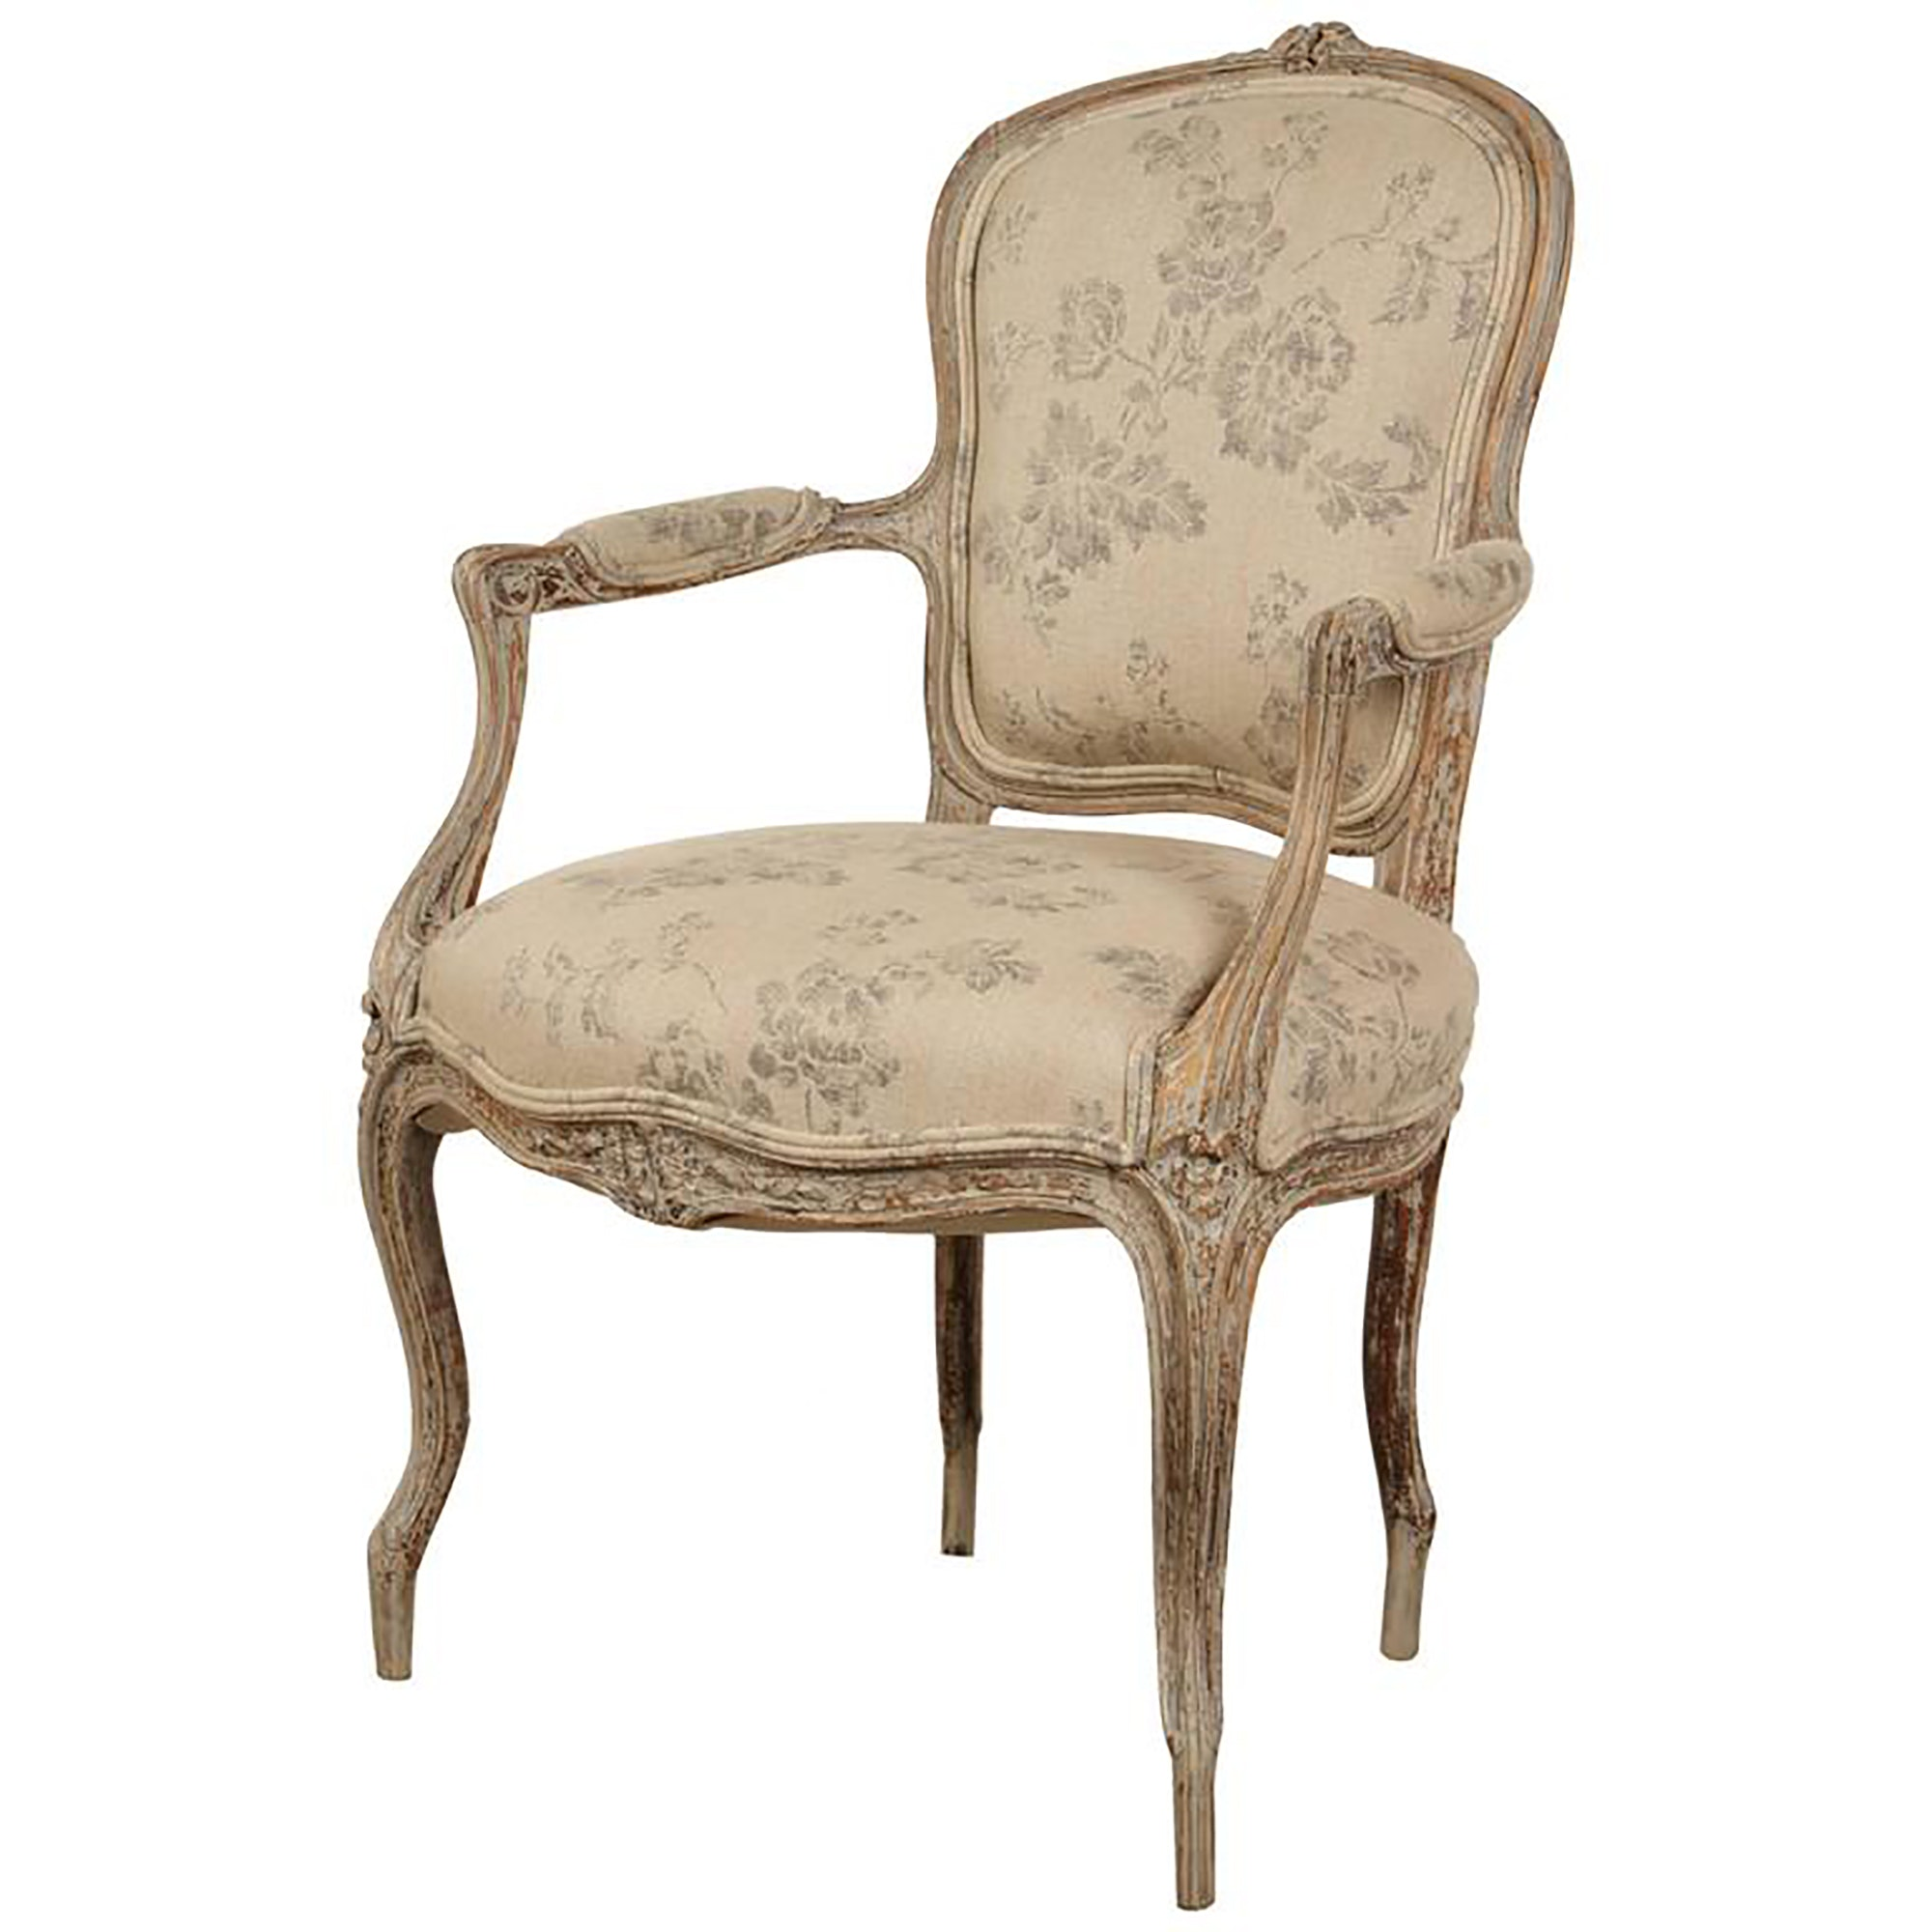chairs: (343, 11, 1573, 1914)
